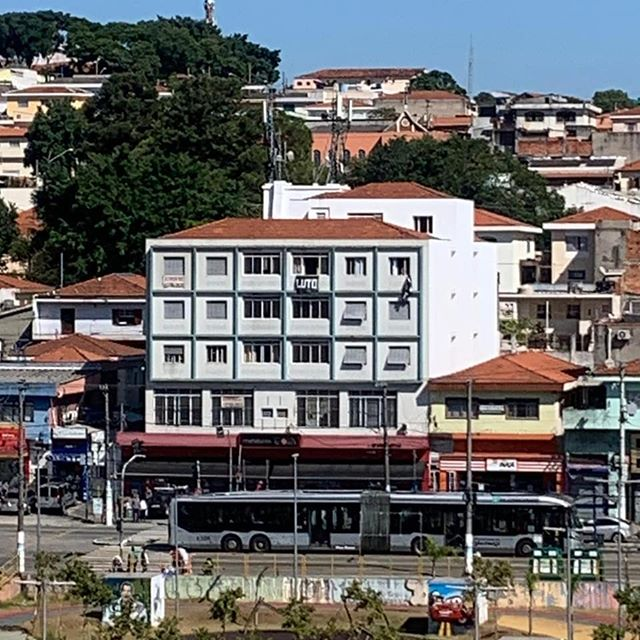building: (169, 228, 434, 466), (433, 346, 640, 555), (458, 203, 640, 355), (1, 268, 156, 388), (295, 56, 457, 163), (498, 89, 629, 179)
bus: (169, 484, 579, 564)
sky: (285, 1, 632, 86)
tree: (40, 87, 279, 272), (2, 1, 261, 83)
